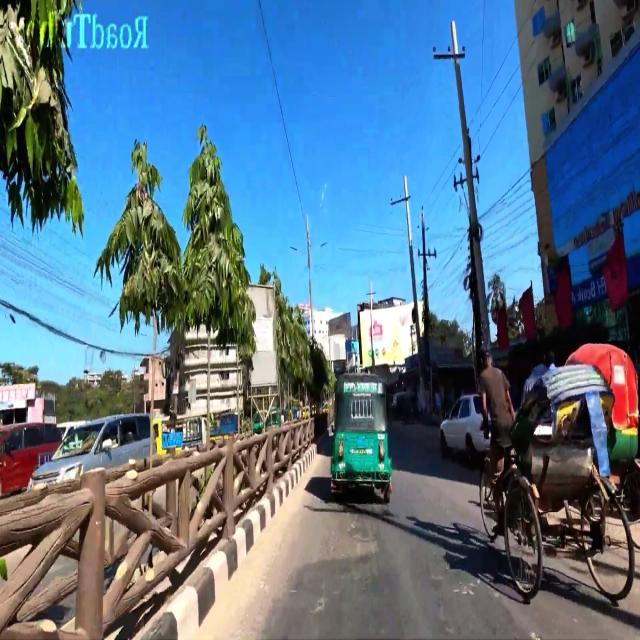red: (0, 422, 29, 498), (27, 423, 59, 450)
silver: (60, 411, 150, 478)
white: (436, 390, 484, 464)
